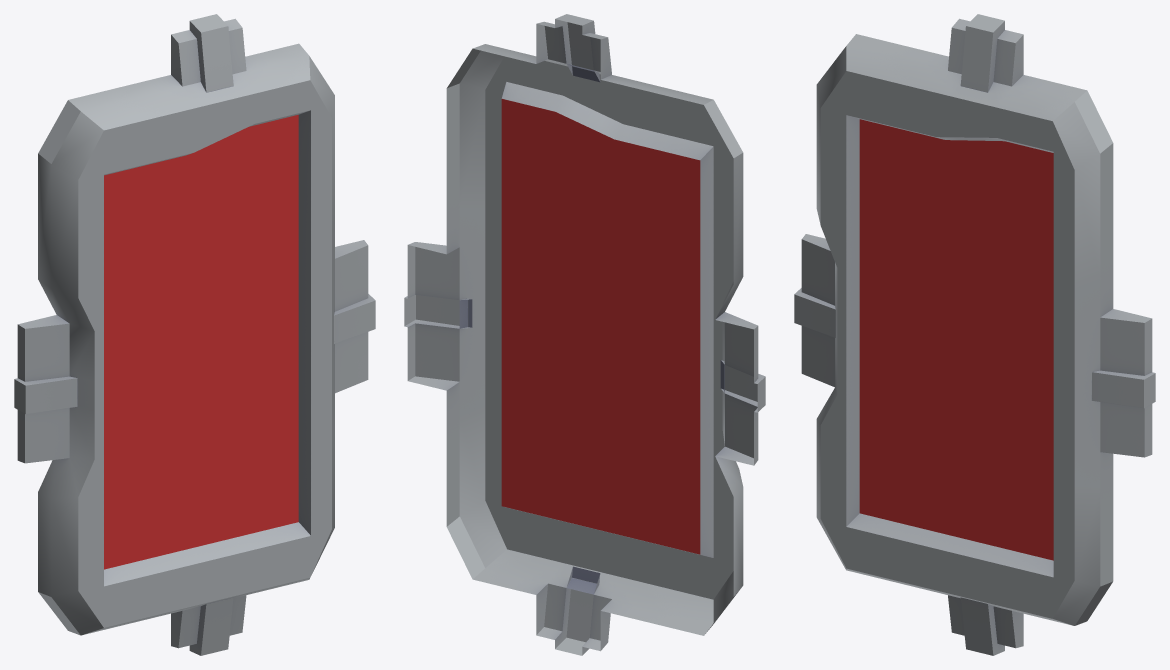
The model's file is Laser_Control_Panel.fbx.
3 renders of one model, left to right at view 1: azimuth 30°, elevation 25°; view 2: azimuth 150°, elevation 25°; view 3: azimuth 330°, elevation 25°, orthographic.
Parts seen in each view (by area): view 1: Laser_Control_Panel; view 2: Laser_Control_Panel; view 3: Laser_Control_Panel.
Part boxes in pixels (x1,y1,x2,y2): Laser_Control_Panel: [14, 14, 375, 655]; Laser_Control_Panel: [404, 14, 765, 655]; Laser_Control_Panel: [794, 14, 1155, 655].
Bounding box in the file's own units: 118 × 201 × 13.24.
Materials: 1 (1 with a texture image).
